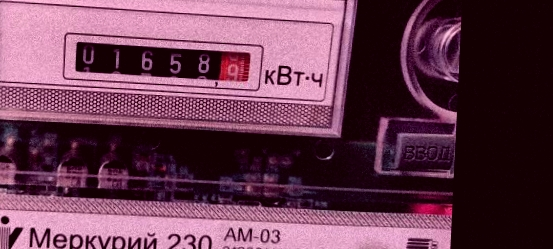0: (81, 42, 95, 65)
1: (111, 47, 122, 69)
5: (168, 50, 183, 74)
6: (139, 48, 154, 71)
8: (196, 51, 211, 73)
9: (223, 61, 238, 83)
screen: (56, 26, 271, 96)
